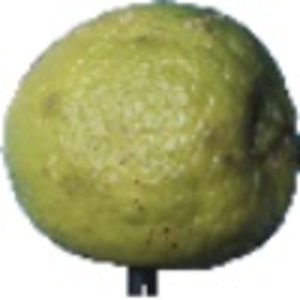limão: (1, 1, 300, 298)
